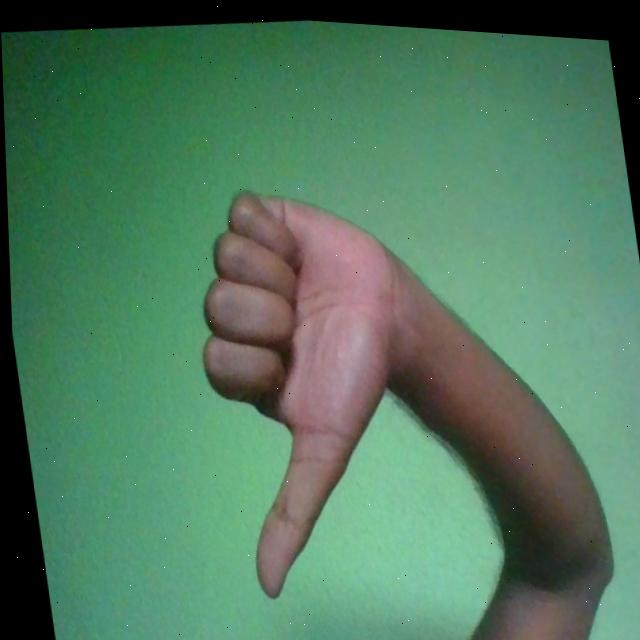Dislike: (176, 168, 439, 610)
